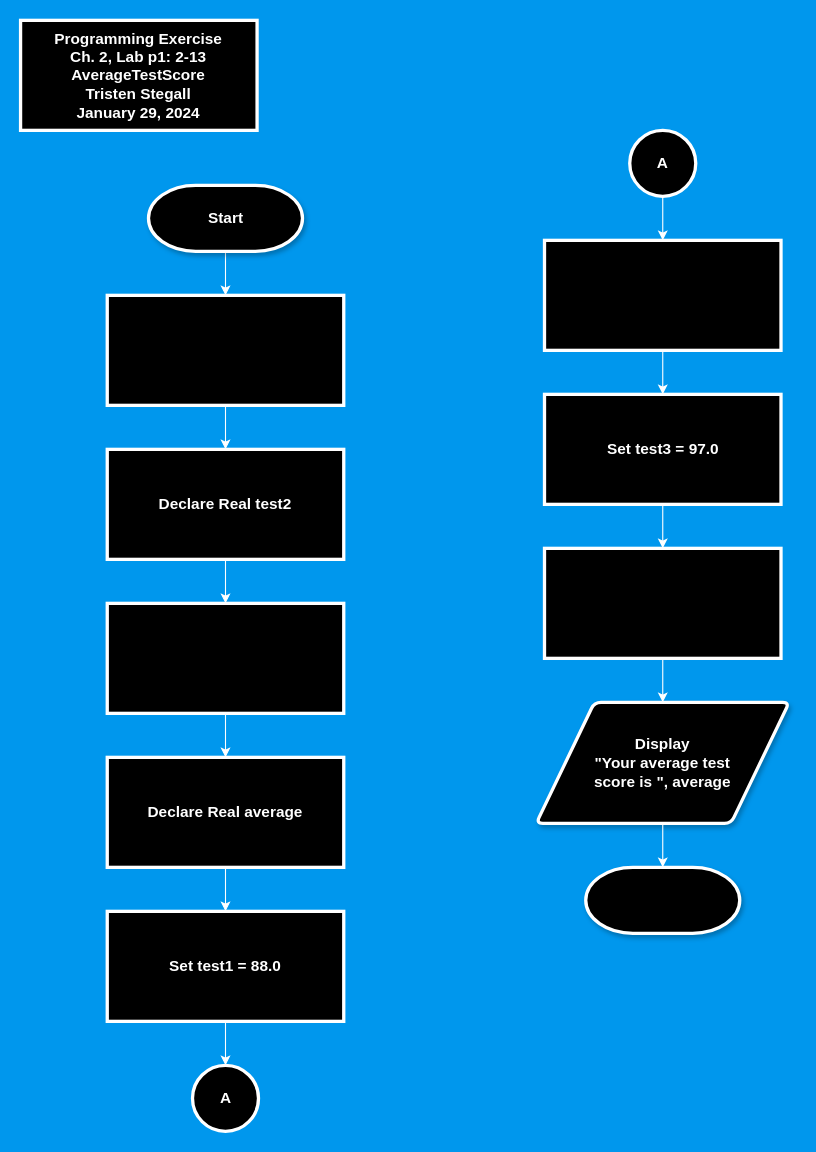
Image size: 816x1152. Some labels were removed from this diagram. Here are the shapes that lost their labels. From the top down, the centre of each, then its label:
At (x=662, y=294): "Set test2 = 92.5".
At (x=225, y=349): "Declare Real test1".
At (x=662, y=602): "Set average = (test1 + test2 + test3) / 3".
At (x=225, y=657): "Declare Real test3".
At (x=663, y=901): "End".
